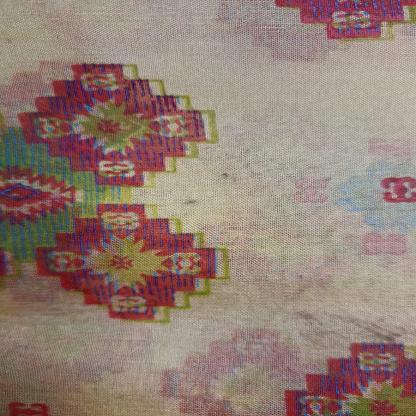spot: (368, 319, 404, 342), (292, 308, 324, 326), (218, 170, 238, 184), (241, 160, 256, 170), (180, 197, 196, 206), (241, 146, 255, 155), (323, 174, 331, 185), (293, 274, 305, 280)
